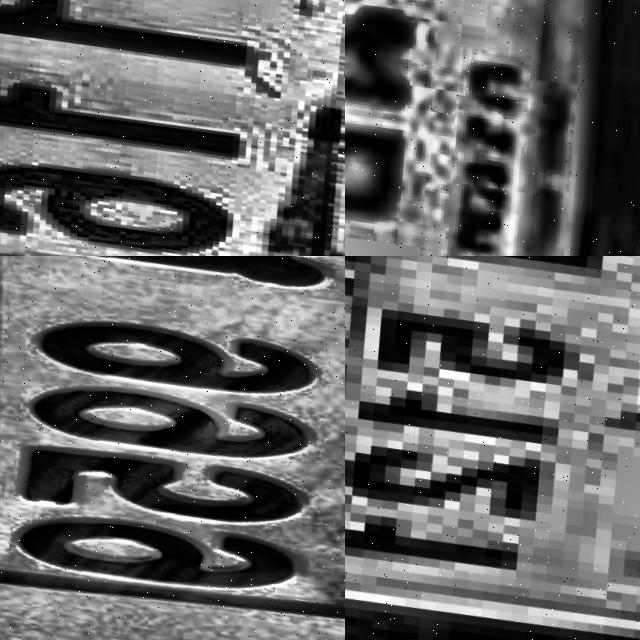license-plate: (0, 256, 345, 640), (345, 256, 640, 640), (0, 0, 345, 256), (345, 0, 636, 256)
